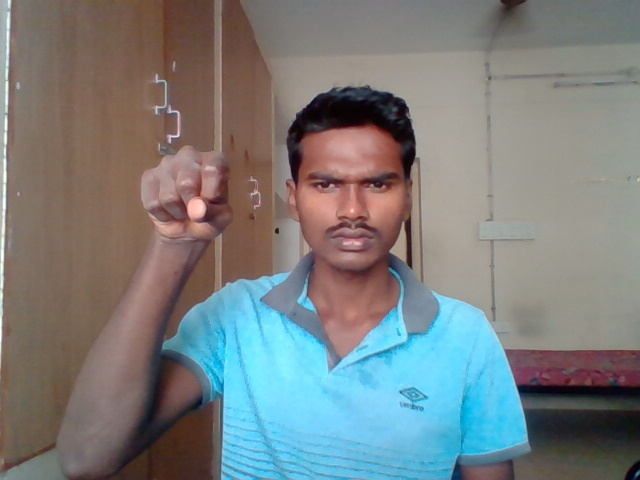Thank You: (138, 143, 238, 244)
